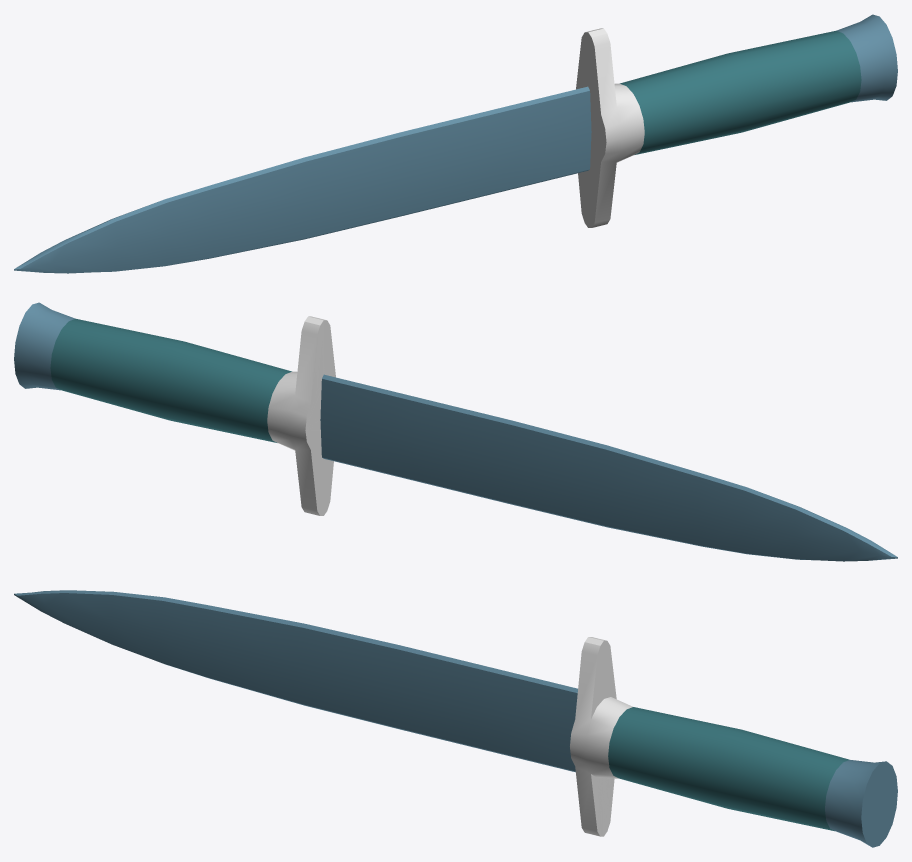
The model's file is daga.fbx.
3 renders of one model, top to bottom at view 1: azimuth 30°, elevation 25°; view 2: azimuth 150°, elevation 25°; view 3: azimuth 330°, elevation 25°, orthographic.
Visible parts, largest first — view 1: Blade_low, Grip_low, Cross-Guard_low, Pommel_low; view 2: Blade_low, Grip_low, Cross-Guard_low, Pommel_low; view 3: Blade_low, Grip_low, Cross-Guard_low, Pommel_low.
Boxes of the visible parts, x1,y1,x2,y2 form: Blade_low: [14, 86, 591, 273]; Grip_low: [620, 30, 861, 154]; Cross-Guard_low: [576, 28, 644, 227]; Pommel_low: [836, 14, 897, 102]; Blade_low: [320, 374, 897, 561]; Grip_low: [50, 318, 291, 442]; Cross-Guard_low: [267, 316, 335, 515]; Pommel_low: [14, 302, 75, 390]; Blade_low: [14, 590, 577, 772]; Grip_low: [608, 707, 849, 831]; Cross-Guard_low: [570, 637, 632, 836]; Pommel_low: [825, 760, 897, 847].
Size of the model in its own units: 1077 by 233 by 79.13.
